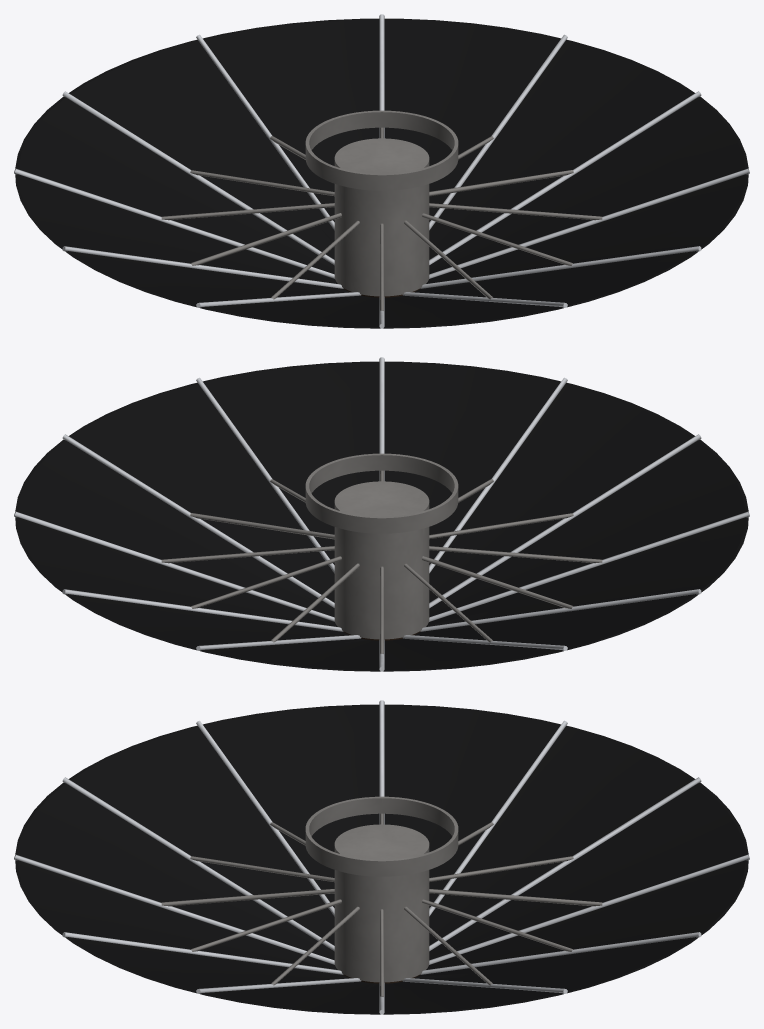
The model's file is stage16_deployable_heat_shield_m_deployed.glb.
3 renders of one model, top to bottom at view 1: azimuth 30°, elevation 25°; view 2: azimuth 150°, elevation 25°; view 3: azimuth 270°, elevation 25°, orthographic.
Parts seen in each view (by area): view 1: fabric_cone, payload_ring, ribs, struts; view 2: fabric_cone, payload_ring, ribs, struts; view 3: fabric_cone, payload_ring, ribs, struts.
Part boxes in pixels (box(x1,y1,x2,y2)): fabric_cone: box(15, 18, 748, 328); payload_ring: box(305, 110, 458, 296); ribs: box(14, 14, 749, 328); struts: box(161, 127, 602, 310); fabric_cone: box(15, 361, 748, 671); payload_ring: box(305, 453, 458, 639); ribs: box(14, 357, 749, 671); struts: box(161, 470, 602, 653); fabric_cone: box(15, 704, 748, 1014); payload_ring: box(305, 796, 458, 982); ribs: box(14, 700, 749, 1014); struts: box(161, 813, 602, 996).
Bounding box in the file's own units: 6.02 × 1.4 × 6.02.
Materials: 4 (3 with a texture image).
